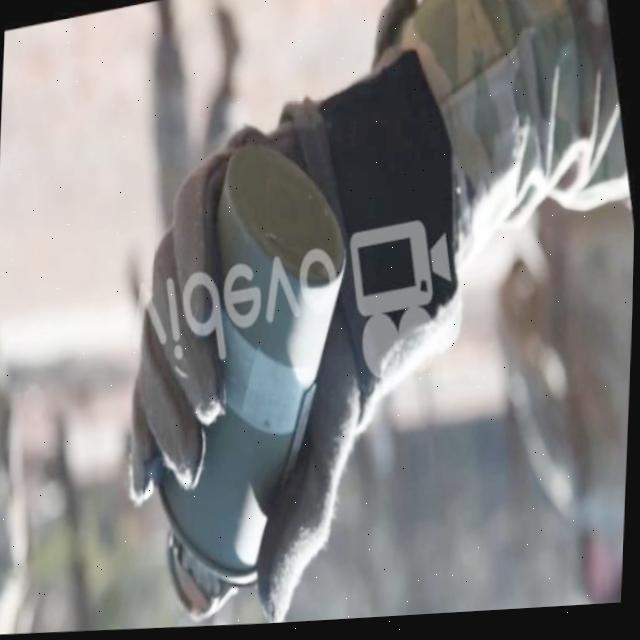grenade: (104, 129, 403, 635)
